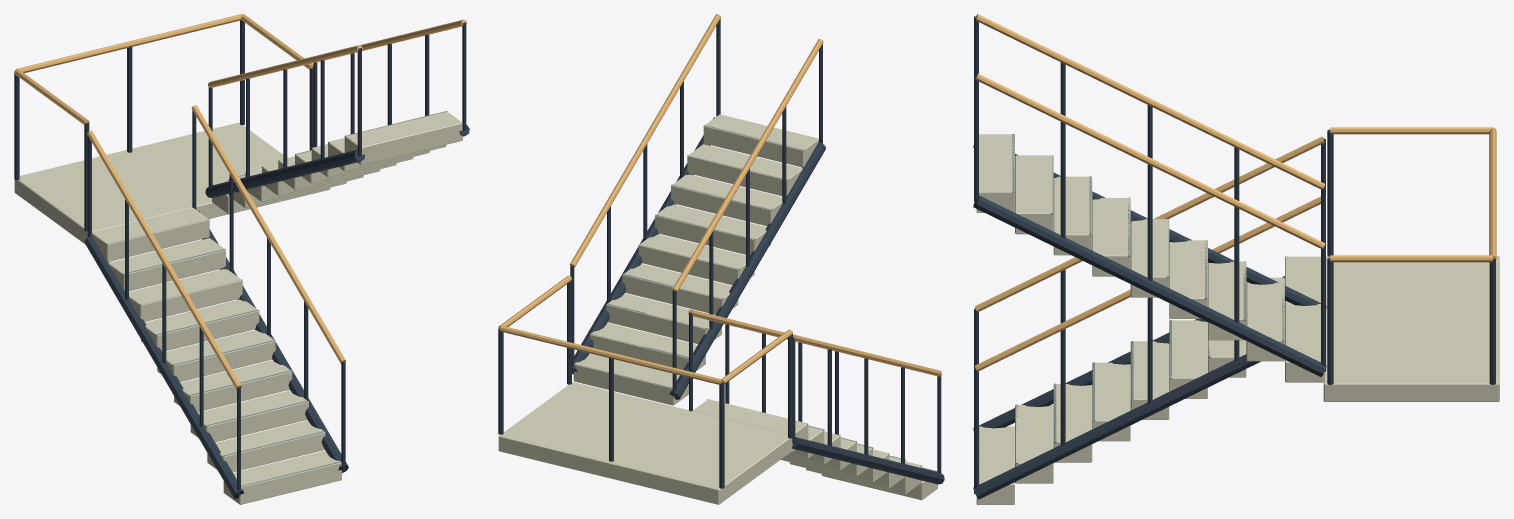
File: stair_u.glb
3 views of the same model, side by side, from view 1: azimuth 30°, elevation 25°; view 2: azimuth 150°, elevation 25°; view 3: azimuth 270°, elevation 25° (orthographic). The views are drawn at different scales.
Parts seen in each view (by area): view 1: stair_u__stone, stair_u__metal, stair_u__oak_light, stair_u__metal_light; view 2: stair_u__stone, stair_u__metal, stair_u__oak_light, stair_u__metal_light; view 3: stair_u__stone, stair_u__metal, stair_u__oak_light, stair_u__metal_light.
Boxes of the visible parts, x1,y1,x2,y2 form: stair_u__stone: [14, 111, 462, 504]; stair_u__metal: [14, 20, 469, 498]; stair_u__oak_light: [14, 14, 466, 389]; stair_u__metal_light: [106, 111, 447, 486]; stair_u__stone: [498, 114, 937, 504]; stair_u__metal: [498, 19, 944, 488]; stair_u__oak_light: [498, 14, 941, 384]; stair_u__metal_light: [574, 125, 937, 471]; stair_u__stone: [976, 134, 1499, 504]; stair_u__metal: [973, 16, 1495, 499]; stair_u__oak_light: [975, 14, 1496, 371]; stair_u__metal_light: [979, 134, 1320, 484].
Size of the model in its own units: 2.3 by 4.01 by 3.82.
